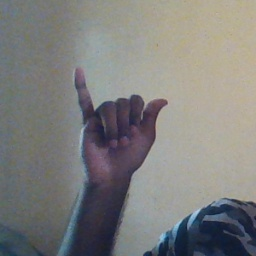J: (70, 66, 171, 171)
